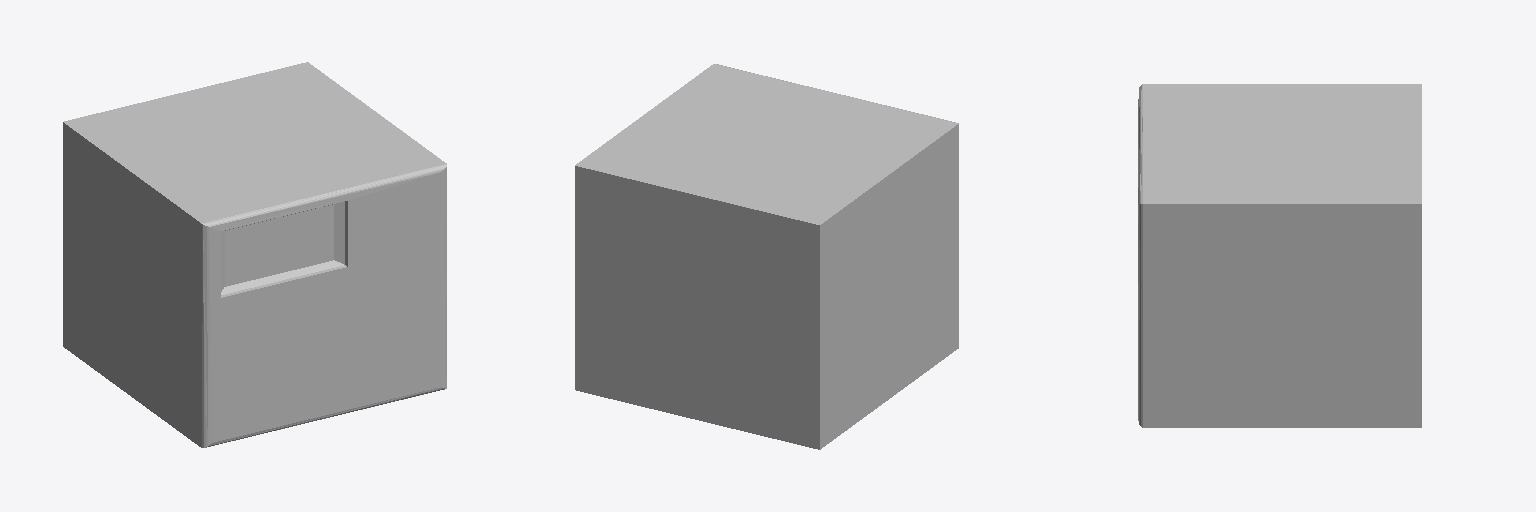
The model's file is inverter.obj.
3 views of the same model, side by side, from view 1: azimuth 30°, elevation 25°; view 2: azimuth 150°, elevation 25°; view 3: azimuth 270°, elevation 25° (orthographic).
Visible parts, largest first — view 1: obj_0; view 2: obj_0; view 3: obj_0.
Part boxes in pixels (x1,y1,x2,y2): obj_0: (63, 62, 446, 447); obj_0: (575, 64, 958, 449); obj_0: (1138, 84, 1421, 427).
Bounding box in the file's own units: 4 × 3.5 × 4.